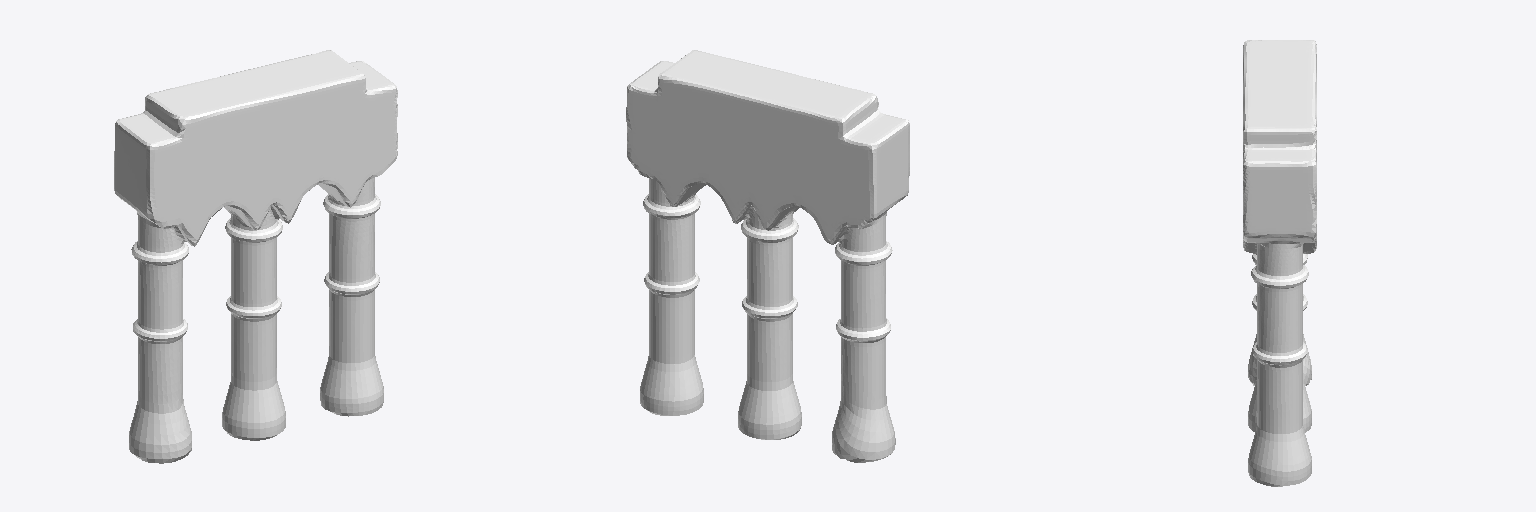
The model's file is sprinkler.Obj.
3 views of the same model, side by side, from view 1: azimuth 30°, elevation 25°; view 2: azimuth 150°, elevation 25°; view 3: azimuth 270°, elevation 25° (orthographic).
Parts seen in each view (by area): view 1: sprinkler; view 2: sprinkler; view 3: sprinkler.
Part boxes in pixels (x1,y1,x2,y2): sprinkler: (114, 50, 397, 463); sprinkler: (626, 50, 909, 462); sprinkler: (1243, 40, 1316, 486).
Bounding box in the file's own units: 130 × 171 × 33.12.